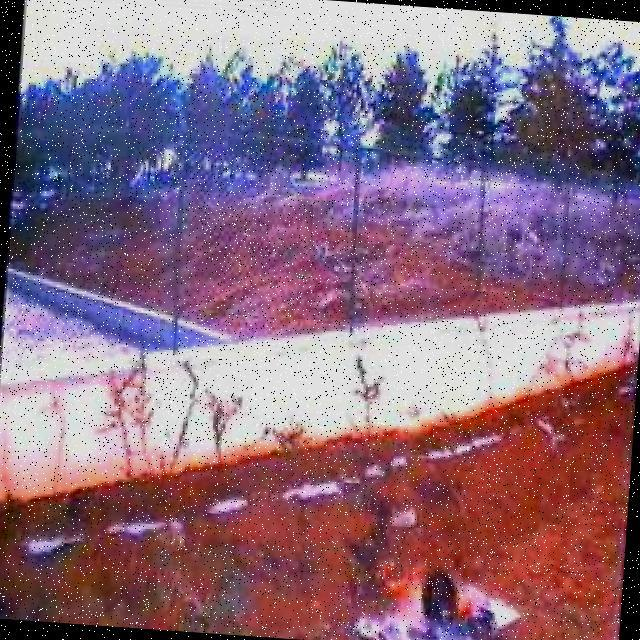Fire: (376, 556, 495, 638)
